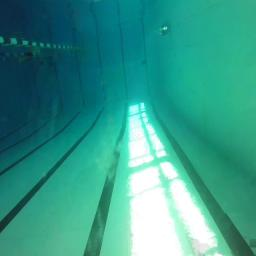Full: (142, 60, 146, 64)
front: (160, 23, 171, 36)
